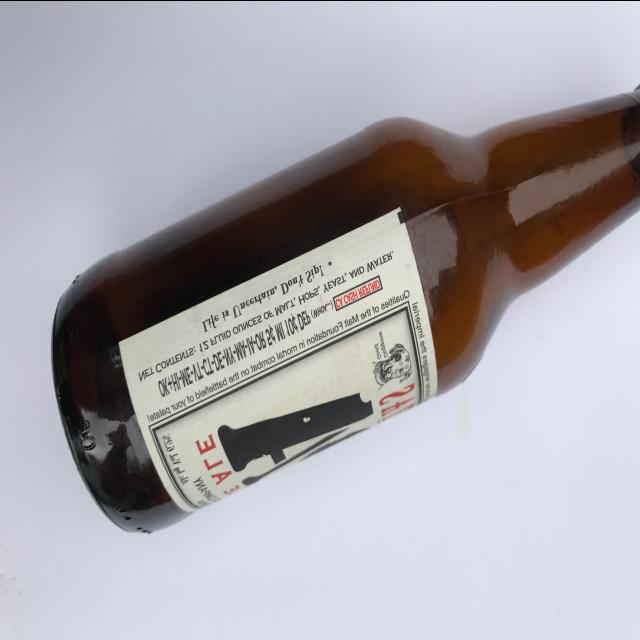glass: (58, 73, 634, 540)
